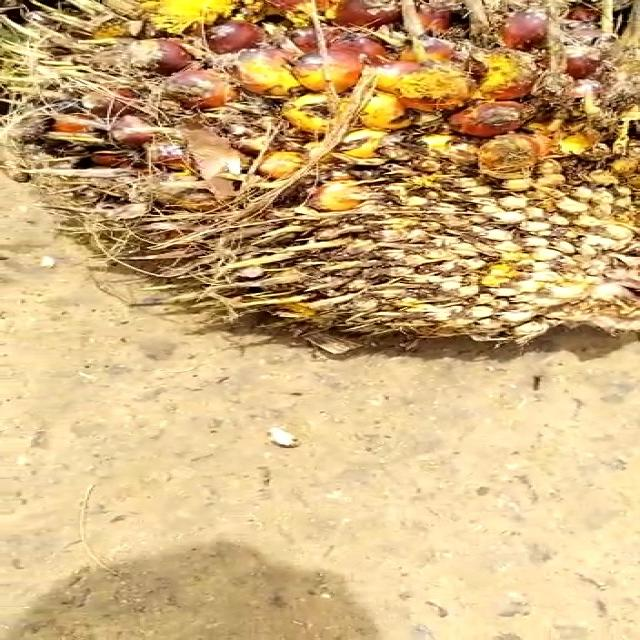palm oil: (0, 0, 640, 366)
